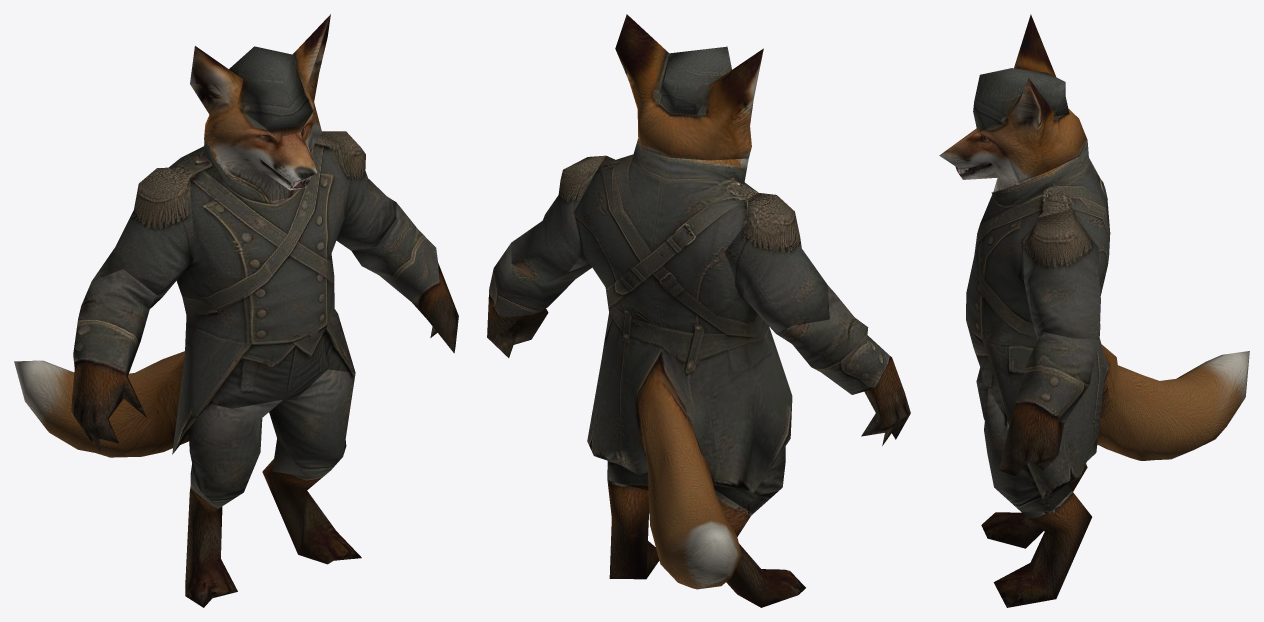
File: infantry_atk_gibs.glb
The picture shows the model from 3 angles, left to right: view 1: azimuth 30°, elevation 25°; view 2: azimuth 150°, elevation 25°; view 3: azimuth 270°, elevation 25°; orthographic projection. The views are drawn at different scales.
Visible parts, largest first — view 1: Body.001, Head.001, Forarm.R.001, Arm.R.001, Upleg.L.001, Upleg.R.001, Forarm.L.001, Hat.001, Leg.L.001, Arm.L.001, Leg.R.001; view 2: Body.001, Head.001, Arm.R.001, Forarm.R.001, Arm.L.001, Forarm.L.001, Leg.L.001, Hat.001, Leg.R.001, Upleg.R.001, Upleg.L.001; view 3: Body.001, Head.001, Arm.L.001, Forarm.L.001, Leg.L.001, Hat.001, Upleg.L.001, Leg.R.001.
Part boxes in pixels (x1,y1,x2,y2): Body.001: [14, 134, 355, 457]; Head.001: [190, 14, 330, 200]; Forarm.R.001: [71, 269, 161, 451]; Arm.R.001: [92, 167, 193, 297]; Upleg.L.001: [269, 369, 355, 476]; Upleg.R.001: [188, 399, 282, 508]; Forarm.L.001: [351, 202, 458, 353]; Hat.001: [229, 46, 312, 137]; Leg.L.001: [262, 459, 361, 564]; Arm.L.001: [321, 131, 396, 250]; Leg.R.001: [185, 487, 237, 607]; Body.001: [569, 138, 792, 589]; Head.001: [615, 14, 763, 160]; Arm.R.001: [725, 193, 829, 333]; Forarm.R.001: [776, 285, 910, 445]; Arm.L.001: [511, 155, 605, 286]; Forarm.L.001: [487, 243, 574, 357]; Leg.L.001: [607, 480, 659, 579]; Hat.001: [658, 46, 731, 116]; Leg.R.001: [714, 490, 805, 607]; Upleg.R.001: [713, 446, 785, 514]; Upleg.L.001: [607, 461, 648, 490]; Body.001: [966, 140, 1249, 498]; Head.001: [939, 14, 1087, 191]; Arm.L.001: [1023, 209, 1100, 340]; Forarm.L.001: [999, 332, 1099, 475]; Leg.L.001: [993, 491, 1091, 607]; Hat.001: [973, 68, 1069, 132]; Upleg.L.001: [984, 388, 1071, 511]; Leg.R.001: [981, 464, 1087, 548].
Bounding box in the file's own units: 0.7401 × 0.9808 × 0.529.
Materials: 2 (1 with a texture image).
